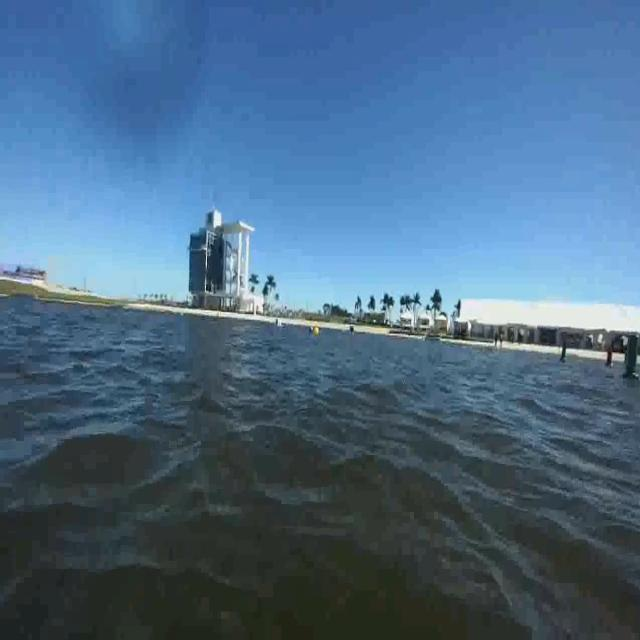green-column-buoy: (621, 332, 640, 381)
yellow-buoy: (314, 324, 320, 336)
